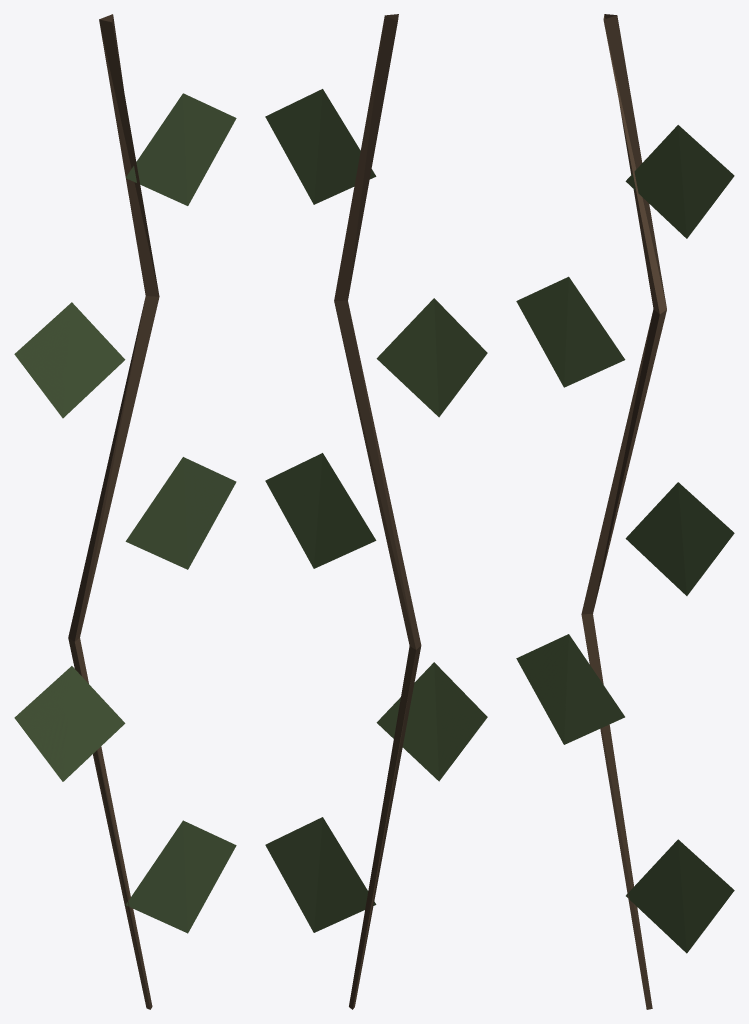
File: vine_hanging.glb
3 renders of one model, left to right at view 1: azimuth 30°, elevation 25°; view 2: azimuth 150°, elevation 25°; view 3: azimuth 330°, elevation 25°, orthographic.
Parts seen in each view (by area): view 1: Hanging_Vine.001; view 2: Hanging_Vine.001; view 3: Hanging_Vine.001.
Part boxes in pixels (x1,y1,x2,y2): Hanging_Vine.001: (14, 14, 236, 1009); Hanging_Vine.001: (265, 14, 487, 1009); Hanging_Vine.001: (516, 14, 734, 1009).
Size of the model in its own units: 0.64 by 2.76 by 0.0671.
